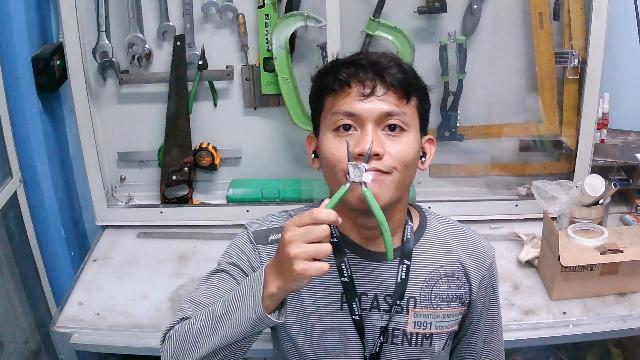tang_cucut_lancip_1: (307, 133, 405, 266)
